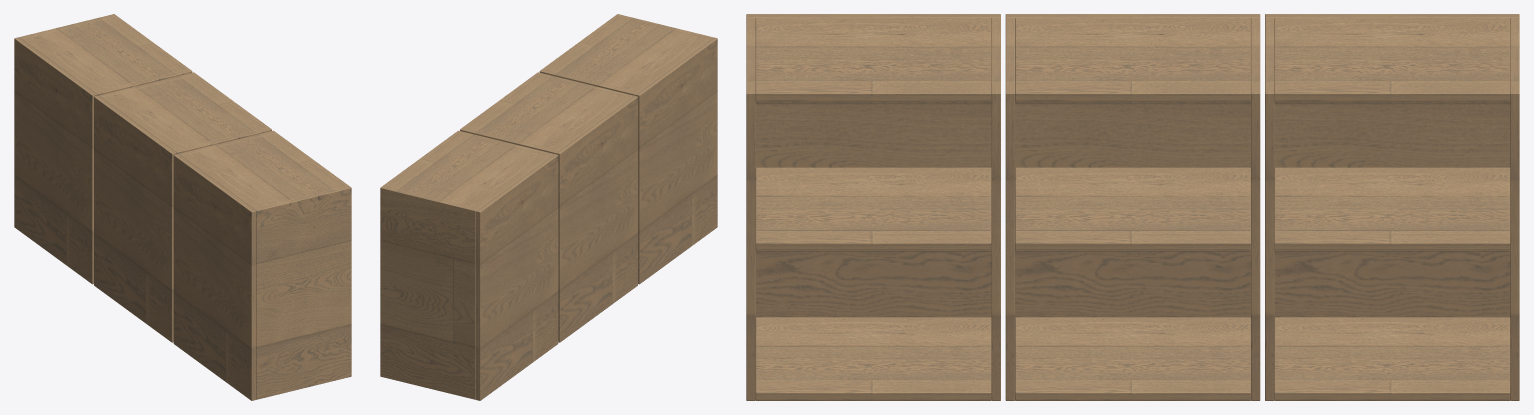
Rendered from upper_cabinet_shell.glb.
3 renders of one model, left to right at view 1: azimuth 30°, elevation 25°; view 2: azimuth 150°, elevation 25°; view 3: azimuth 270°, elevation 25°, orthographic. The views are drawn at different scales.
Parts seen in each view (by area): view 1: upper_case_0_side_-1, upper_case_0_back, upper_case_1_back, upper_case_2_back, upper_case_0_shelf_2, upper_case_2_shelf_2, upper_case_1_shelf_2, upper_case_2_side_-1, upper_case_1_side_-1, upper_case_2_side_1, upper_case_0_side_1, upper_case_1_side_1; view 2: upper_case_2_side_1, upper_case_2_back, upper_case_1_back, upper_case_0_back, upper_case_2_shelf_2, upper_case_0_shelf_2, upper_case_1_shelf_2, upper_case_0_side_1, upper_case_1_side_1, upper_case_0_side_-1, upper_case_1_side_-1, upper_case_2_side_-1; view 3: upper_case_0_back, upper_case_2_back, upper_case_1_back, upper_case_0_shelf_1, upper_case_2_shelf_1, upper_case_1_shelf_1, upper_case_0_shelf_0, upper_case_0_shelf_2, upper_case_2_shelf_0, upper_case_2_shelf_2, upper_case_1_shelf_0, upper_case_1_shelf_2 (+6 smaller).
Boxes of the visible parts, <box> form: upper_case_0_side_-1: <box>254,186,351,399</box>; upper_case_0_back: <box>173,154,256,400</box>; upper_case_1_back: <box>94,95,176,342</box>; upper_case_2_back: <box>14,37,96,284</box>; upper_case_0_shelf_2: <box>181,132,348,208</box>; upper_case_2_shelf_2: <box>22,16,188,92</box>; upper_case_1_shelf_2: <box>102,74,268,150</box>; upper_case_2_side_-1: <box>95,69,192,95</box>; upper_case_1_side_-1: <box>174,127,271,153</box>; upper_case_2_side_1: <box>19,14,116,39</box>; upper_case_0_side_1: <box>179,130,275,155</box>; upper_case_1_side_1: <box>99,72,196,97</box>; upper_case_2_side_1: <box>380,186,477,399</box>; upper_case_2_back: <box>475,154,558,400</box>; upper_case_1_back: <box>555,95,637,342</box>; upper_case_0_back: <box>635,37,717,284</box>; upper_case_2_shelf_2: <box>383,132,550,208</box>; upper_case_0_shelf_2: <box>543,16,709,92</box>; upper_case_1_shelf_2: <box>463,74,629,150</box>; upper_case_0_side_1: <box>539,69,636,95</box>; upper_case_1_side_1: <box>460,127,557,153</box>; upper_case_0_side_-1: <box>615,14,712,39</box>; upper_case_1_side_-1: <box>535,72,632,97</box>; upper_case_2_side_-1: <box>456,130,552,155</box>; upper_case_0_back: <box>746,14,1000,317</box>; upper_case_2_back: <box>1265,14,1519,317</box>; upper_case_1_back: <box>1005,14,1260,317</box>; upper_case_0_shelf_1: <box>755,167,991,251</box>; upper_case_2_shelf_1: <box>1274,167,1510,251</box>; upper_case_1_shelf_1: <box>1015,167,1250,251</box>; upper_case_0_shelf_0: <box>755,317,991,400</box>; upper_case_0_shelf_2: <box>755,18,991,101</box>; upper_case_2_shelf_0: <box>1274,317,1510,400</box>; upper_case_2_shelf_2: <box>1274,18,1510,101</box>; upper_case_1_shelf_0: <box>1015,317,1250,400</box>; upper_case_1_shelf_2: <box>1015,18,1250,101</box>.
Bounding box in the file's own units: 0.4 × 0.72 × 1.64.
1 material, 1 textured.
